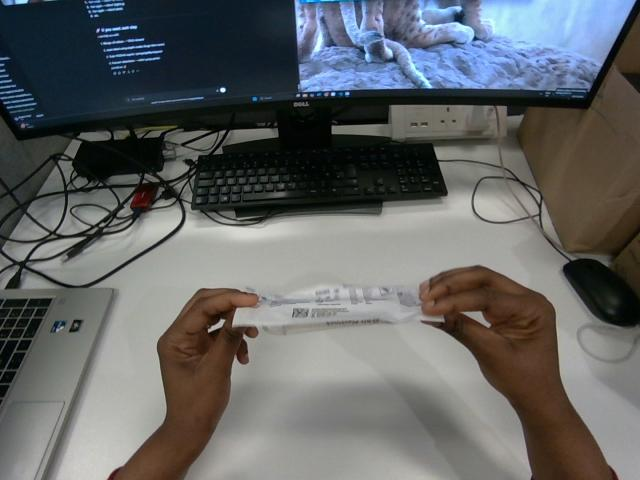syringe: (233, 285, 442, 334)
